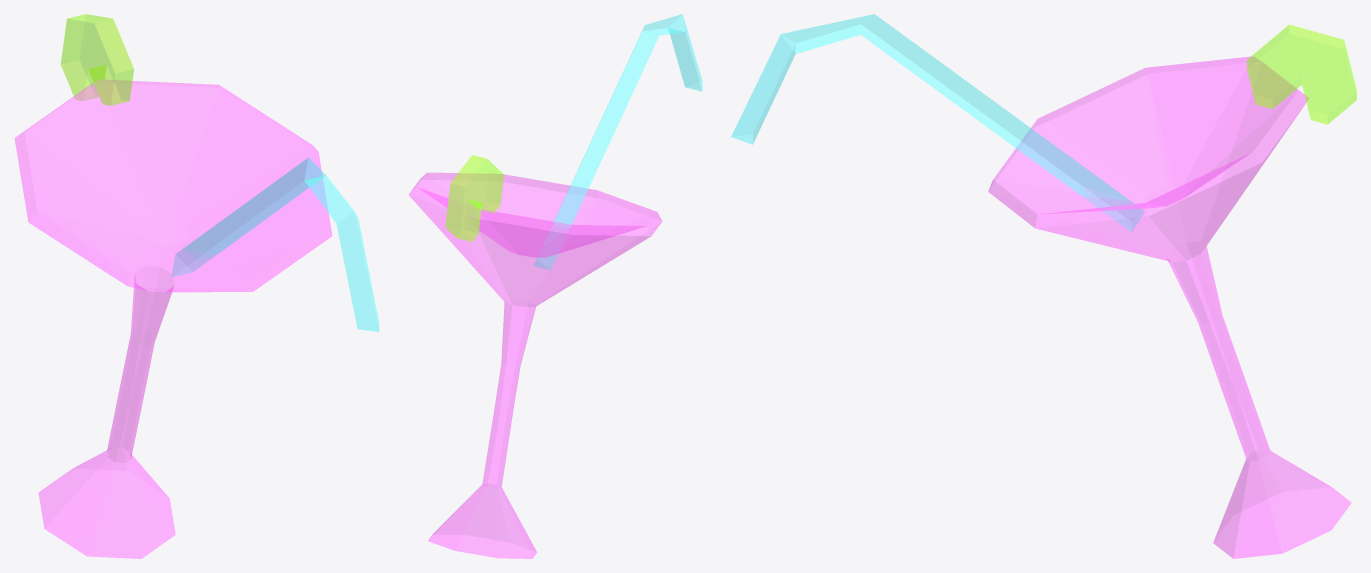
File: Coctail.fbx
The picture shows the model from 3 angles, left to right: view 1: azimuth 30°, elevation 25°; view 2: azimuth 150°, elevation 25°; view 3: azimuth 270°, elevation 25°; orthographic projection. The views are drawn at different scales.
Visible parts, largest first — view 1: Cylinder.007; view 2: Cylinder.007; view 3: Cylinder.007.
Boxes of the visible parts, <box> form: Cylinder.007: <box>14,14,379,558</box>; Cylinder.007: <box>408,14,702,558</box>; Cylinder.007: <box>731,14,1356,558</box>.
Size of the model in its own units: 1038 by 1794 by 1925.
